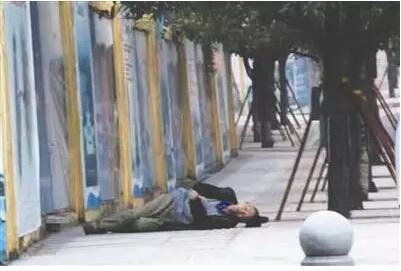falling: (80, 178, 269, 236)
